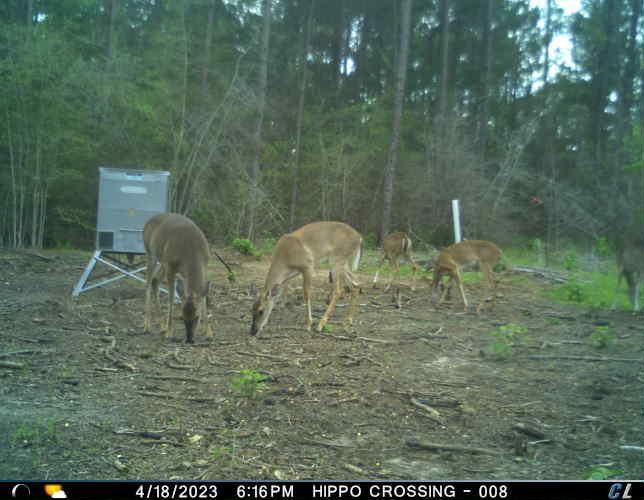Deer: (247, 217, 365, 339), (138, 210, 216, 346), (426, 237, 507, 314), (374, 228, 422, 294), (608, 236, 644, 319)
